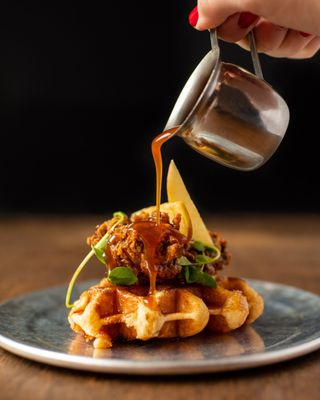soup: (66, 200, 262, 344)
